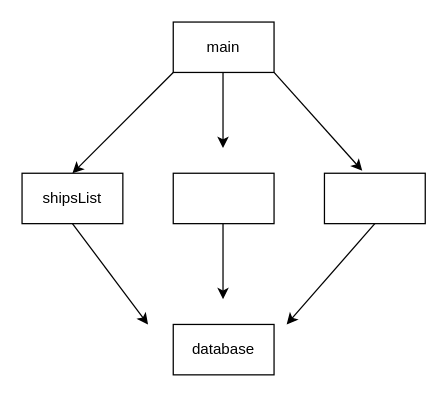
Image size: 447x397. Some labels were removed from this diagram. The centre of each missing label's shape, as x and y in pixels:
"docklist" goes at pixel 374 198.
"haulerList" goes at pixel 223 198.
